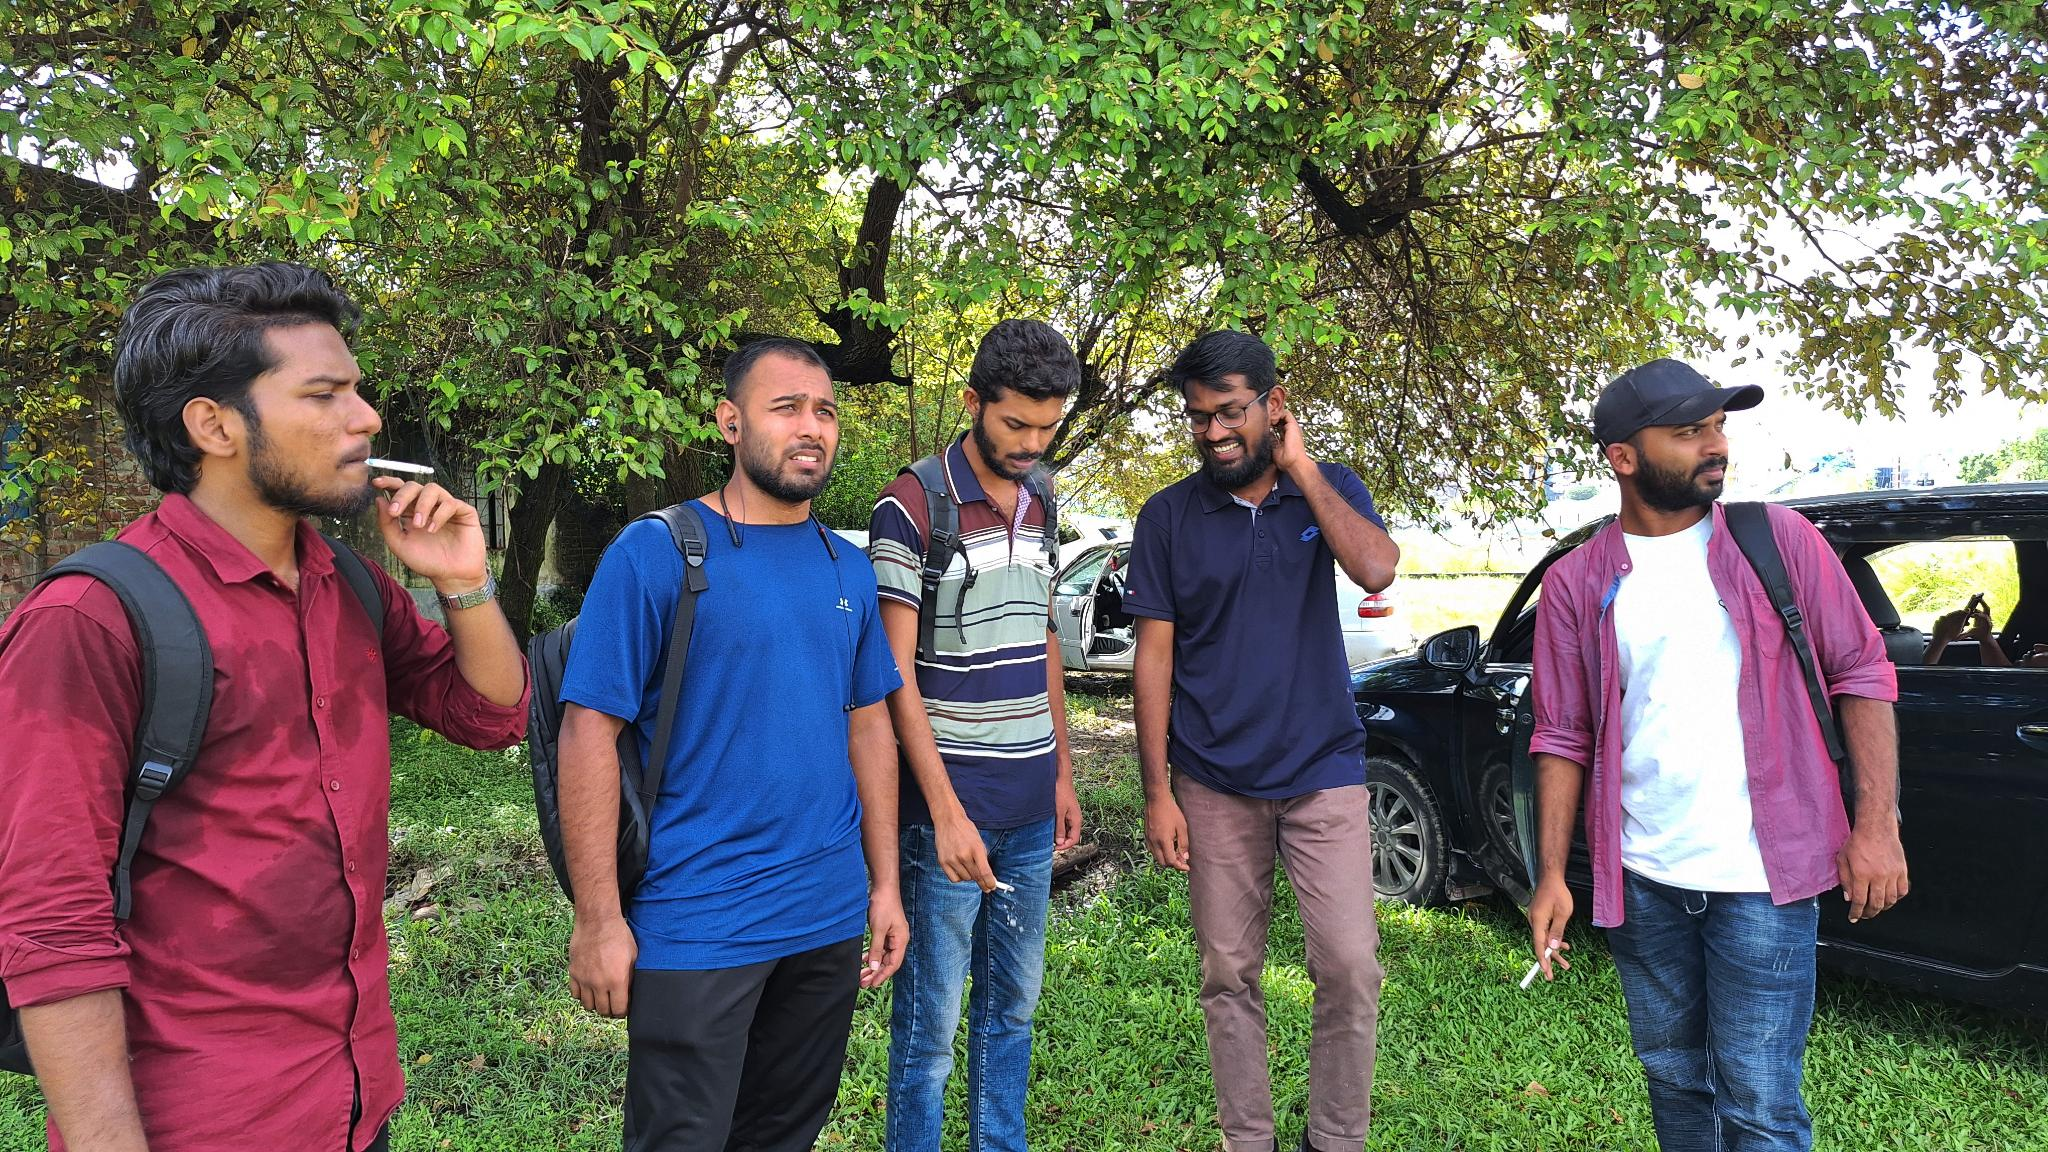cigarette: (361, 453, 439, 478), (1516, 945, 1556, 993), (993, 879, 1017, 895)
nonSmoker: (532, 332, 909, 1152), (1125, 331, 1401, 1152)
smoker: (0, 263, 532, 1152), (1526, 360, 1916, 1152), (872, 319, 1089, 1152)
